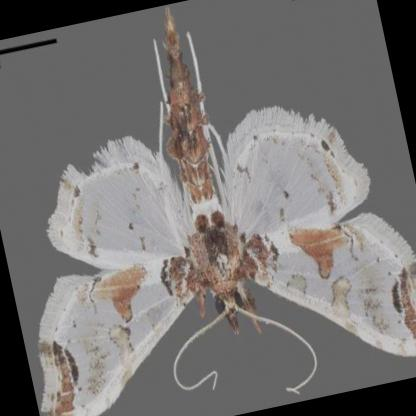leucinodes: (38, 19, 416, 416)
